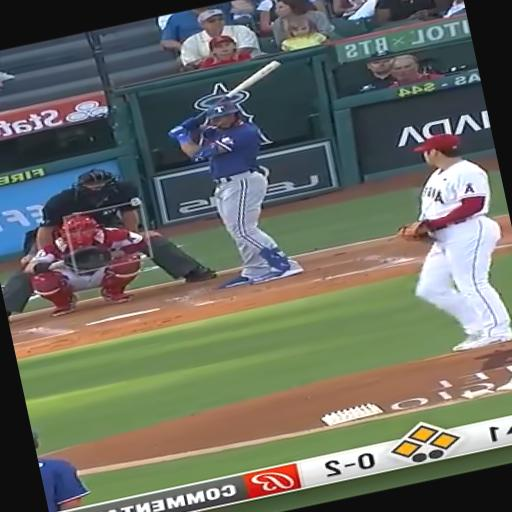bat: (215, 60, 280, 105), (224, 60, 280, 97)
